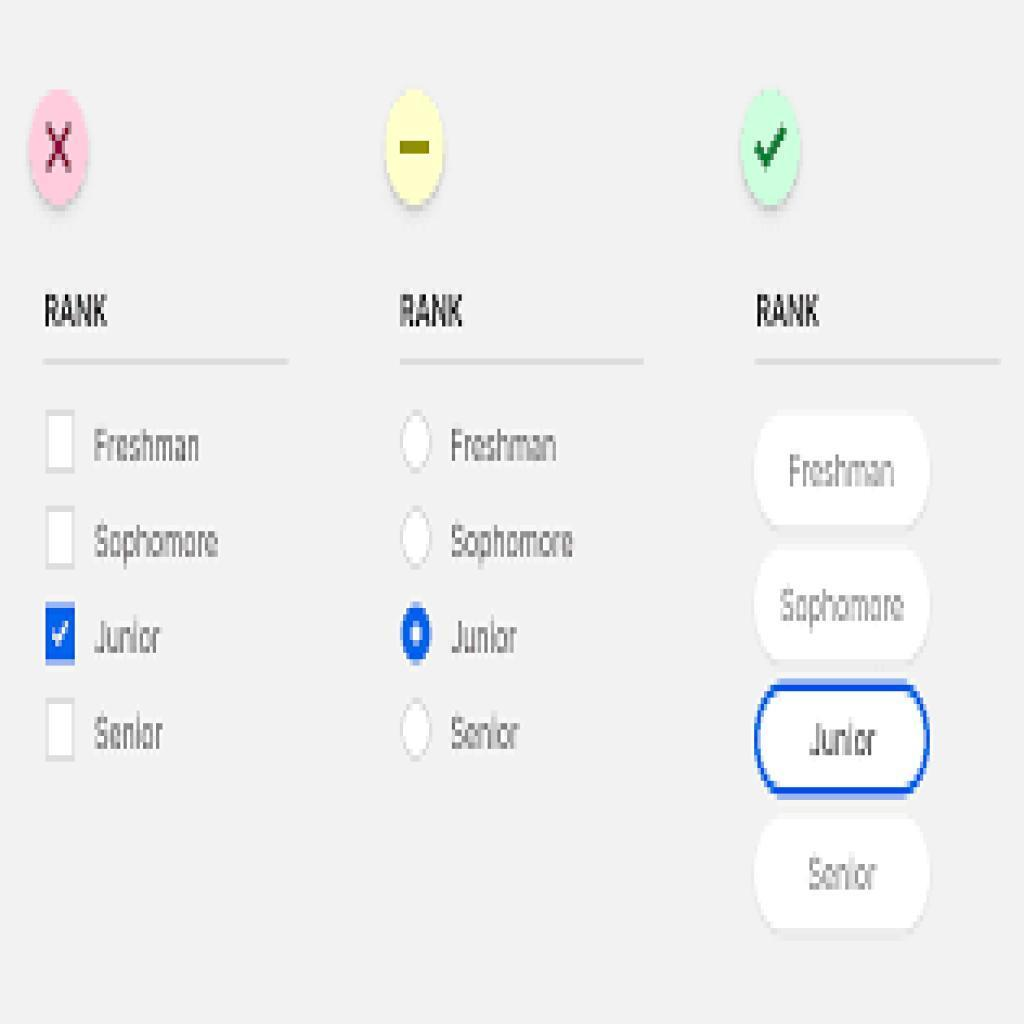button: (756, 546, 933, 666), (757, 816, 937, 934), (756, 412, 933, 529), (756, 684, 932, 797)
checkbox: (46, 601, 77, 668), (46, 700, 77, 759), (46, 412, 76, 471), (48, 511, 76, 568)
radio: (396, 503, 437, 570), (401, 600, 440, 670), (398, 696, 437, 762), (397, 411, 436, 475)
